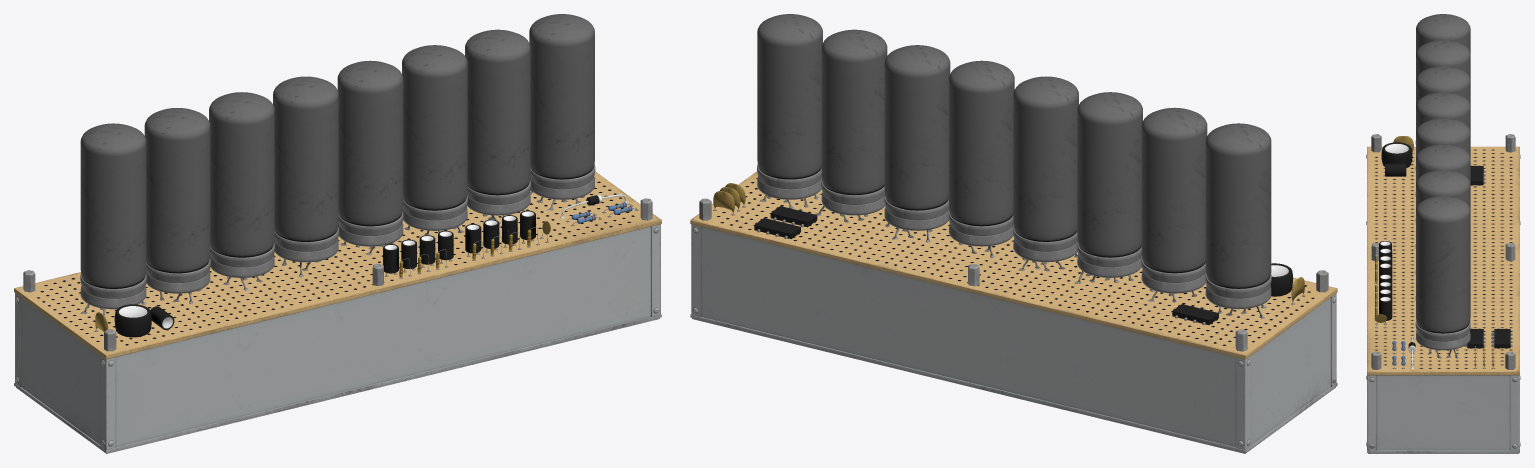
Rendered from divergence_meter_steinsgate.glb.
3 renders of one model, left to right at view 1: azimuth 30°, elevation 25°; view 2: azimuth 150°, elevation 25°; view 3: azimuth 270°, elevation 25°, orthographic. The views are drawn at different scales.
Visible parts, largest first — view 1: pCube1, pCube17, glass.002, glass.014, glass.004, glass, glass.010, glass.008, glass.012, glass.006, pCube18, pCube4 (+9 smaller); view 2: pCube1, pCube17, glass.002, glass.012, glass, glass.008, glass.004, glass.010, glass.014, glass.006, pCube18, pCube4 (+9 smaller); view 3: pCube17, pCube1, glass, glass.010, glass.014, glass.004, glass.006, glass.008, glass.002, pCube4, glass.012, metalstand (+12 smaller).
Part boxes in pixels (x1,y1,x2,y2): pCube1: [21, 226, 651, 446]; pCube17: [14, 171, 661, 359]; glass.002: [80, 123, 146, 288]; glass.014: [337, 60, 403, 226]; glass.004: [144, 108, 210, 273]; glass: [529, 14, 594, 179]; glass.010: [273, 76, 338, 241]; glass.008: [209, 92, 274, 257]; glass.012: [402, 45, 467, 210]; glass.006: [465, 29, 530, 195]; pCube18: [14, 314, 661, 453]; pCube4: [15, 224, 660, 449]; pCube1: [700, 226, 1330, 447]; pCube17: [690, 171, 1337, 359]; glass.002: [1205, 123, 1271, 288]; glass.012: [884, 45, 950, 210]; glass: [757, 14, 822, 179]; glass.008: [1077, 92, 1142, 257]; glass.004: [1141, 107, 1207, 273]; glass.010: [1013, 76, 1078, 241]; glass.014: [949, 60, 1014, 226]; glass.006: [821, 29, 887, 194]; pCube18: [690, 314, 1337, 453]; pCube4: [691, 224, 1336, 449]; pCube17: [1367, 146, 1519, 375]; pCube1: [1376, 375, 1510, 450]; glass: [1416, 196, 1470, 333]; glass.010: [1416, 92, 1470, 131]; glass.014: [1416, 118, 1470, 158]; glass.004: [1416, 40, 1470, 79]; glass.006: [1416, 170, 1470, 209]; glass.008: [1416, 66, 1470, 105]; glass.002: [1416, 14, 1470, 53]; pCube4: [1367, 375, 1519, 450]; glass.012: [1416, 144, 1470, 183]; metalstand: [1415, 321, 1470, 350].
Bounding box in the file's own units: 0.3548 × 0.1715 × 0.1023.
8 materials, 8 textured.
